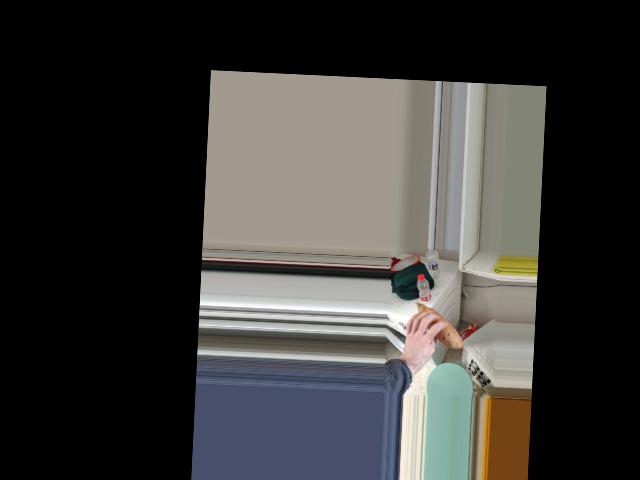sweet_potato: (410, 303, 462, 348)
